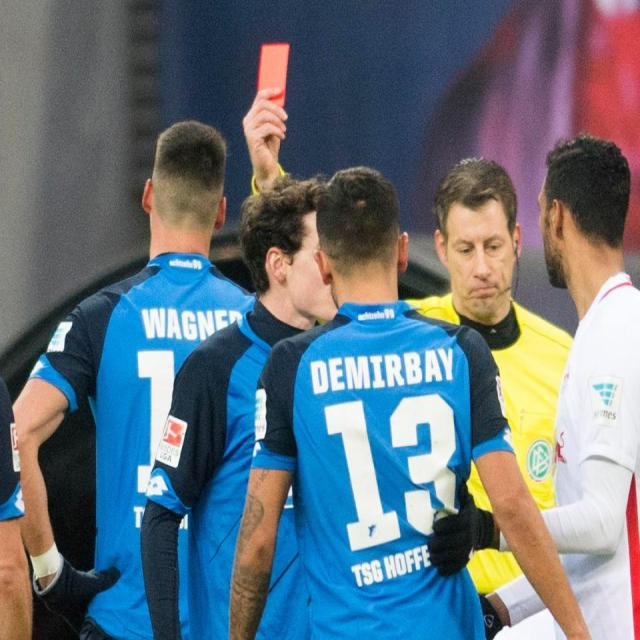body: (240, 84, 576, 605), (225, 163, 588, 640), (10, 116, 260, 640), (428, 135, 639, 638), (138, 173, 341, 639), (0, 366, 31, 640)
